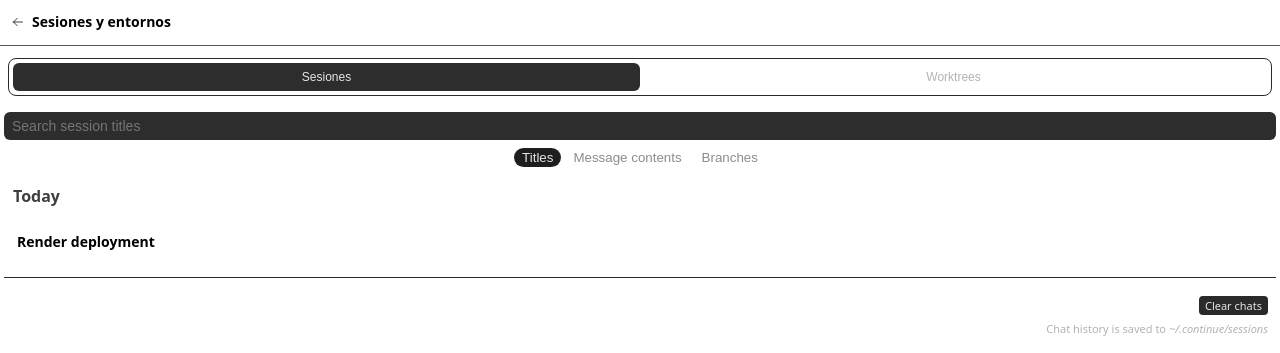
searching inside past conversations › explains why nothing matched instead of showing a blank pane
Click the button with test id "history-scope-messages".
click(628, 158)  # box [565, 148, 690, 167]
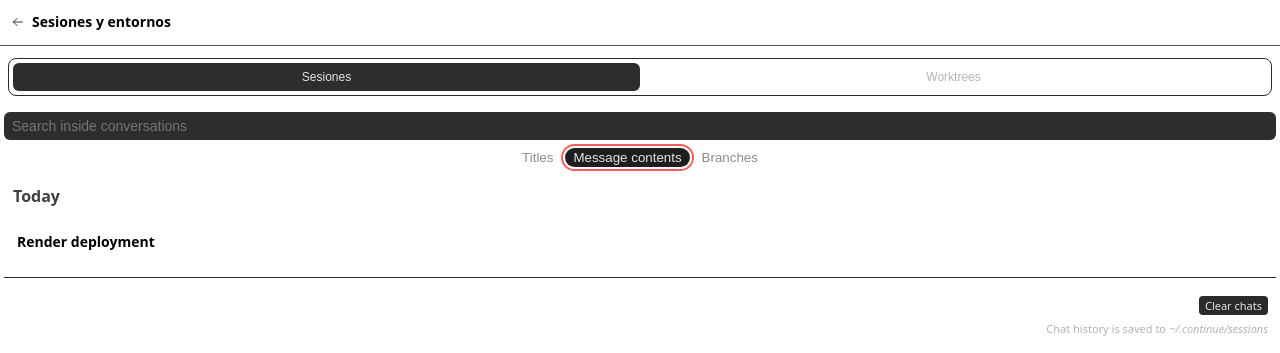
Type "nothingmatchesthis" into the field with placeholder "Search inside conversations".
click(640, 126); type("nothingmatchesthis")  # box [4, 112, 1276, 140]
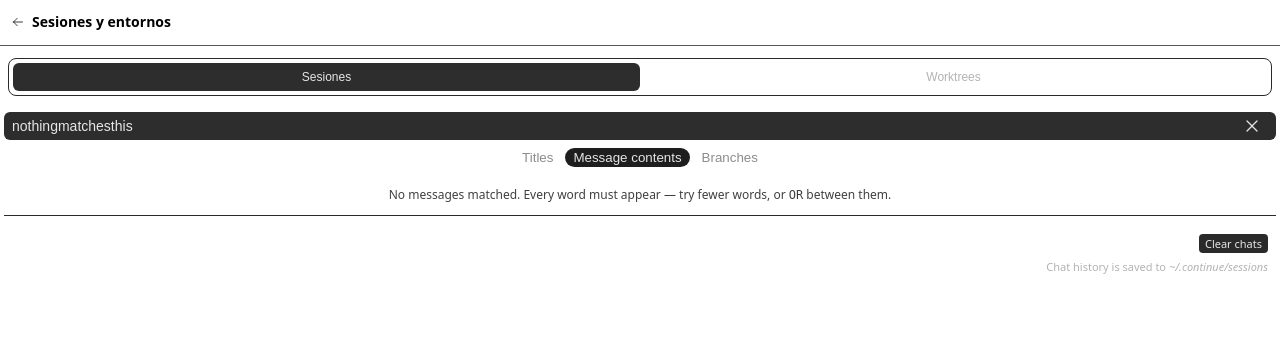
Now the element with test id "session-search-empty" is shown, box [389, 186, 891, 203]
